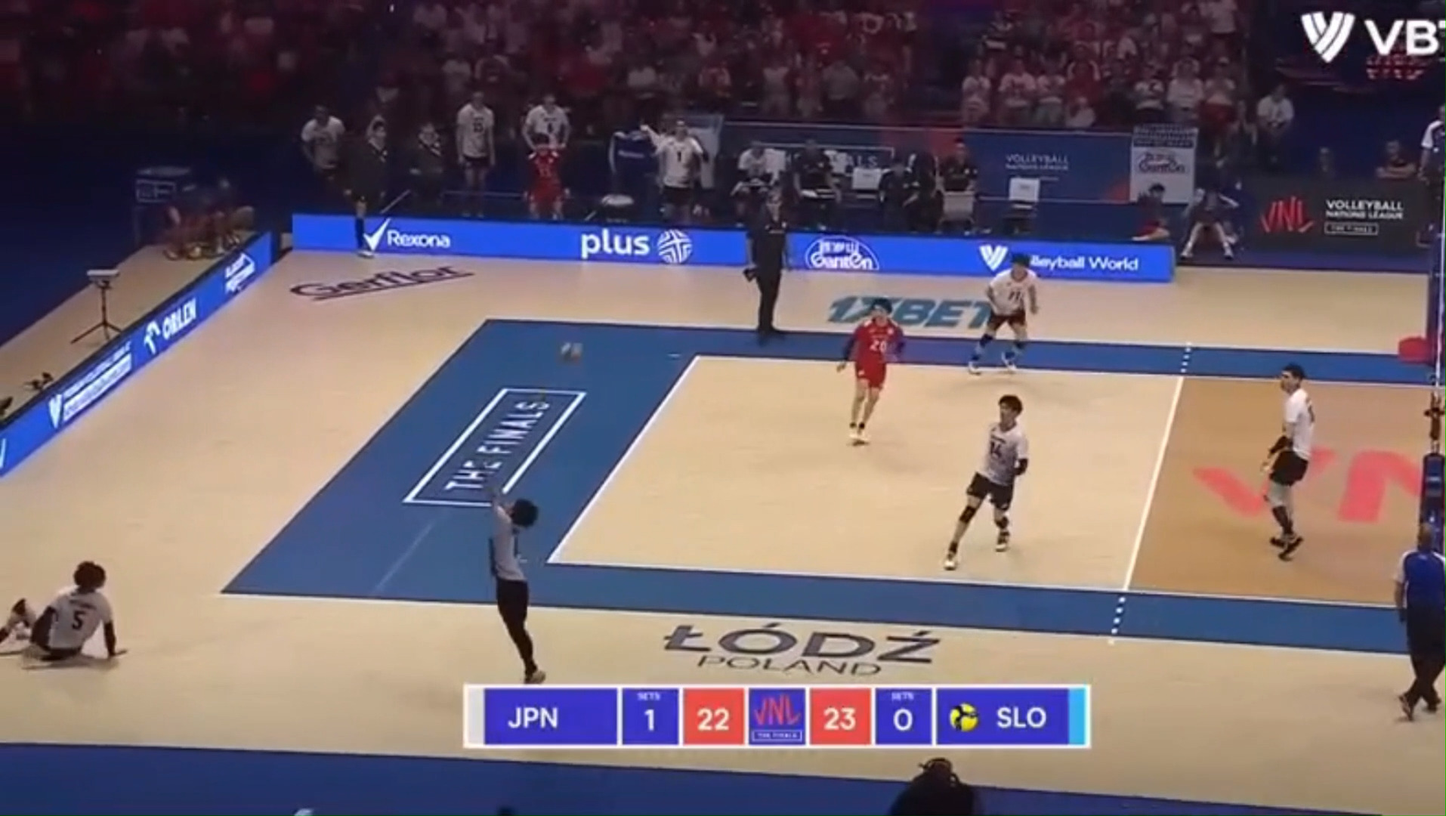ball: (558, 342, 582, 365)
player 1: (943, 394, 1029, 570), (0, 561, 121, 662), (1262, 364, 1315, 559), (490, 499, 544, 682), (838, 298, 904, 444), (968, 253, 1038, 372)
referee: (1395, 521, 1445, 719), (744, 190, 787, 342), (1417, 104, 1445, 246)
